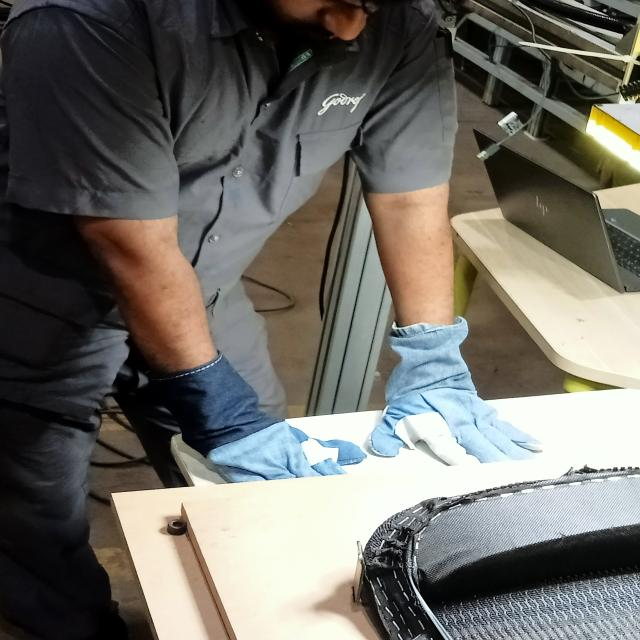Gloves-Detection: (157, 353, 364, 490), (365, 318, 544, 462)
